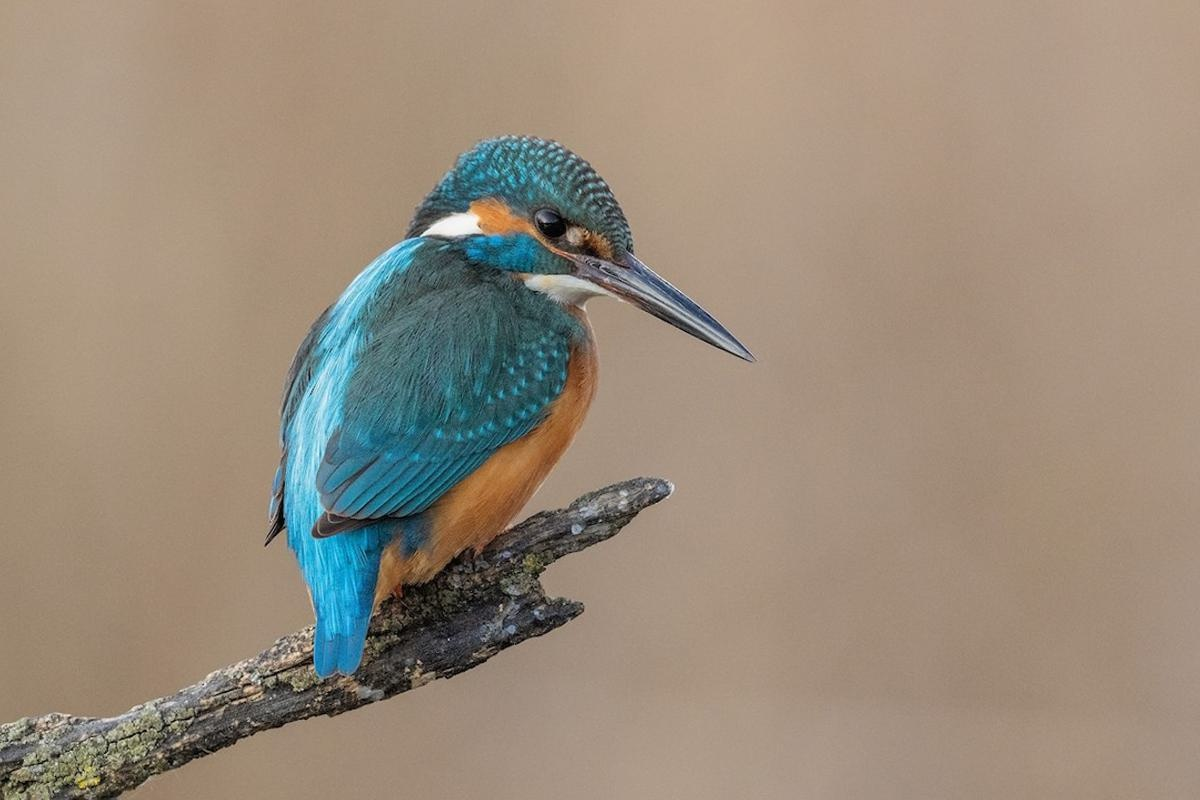kingfisher: (286, 137, 752, 680)
